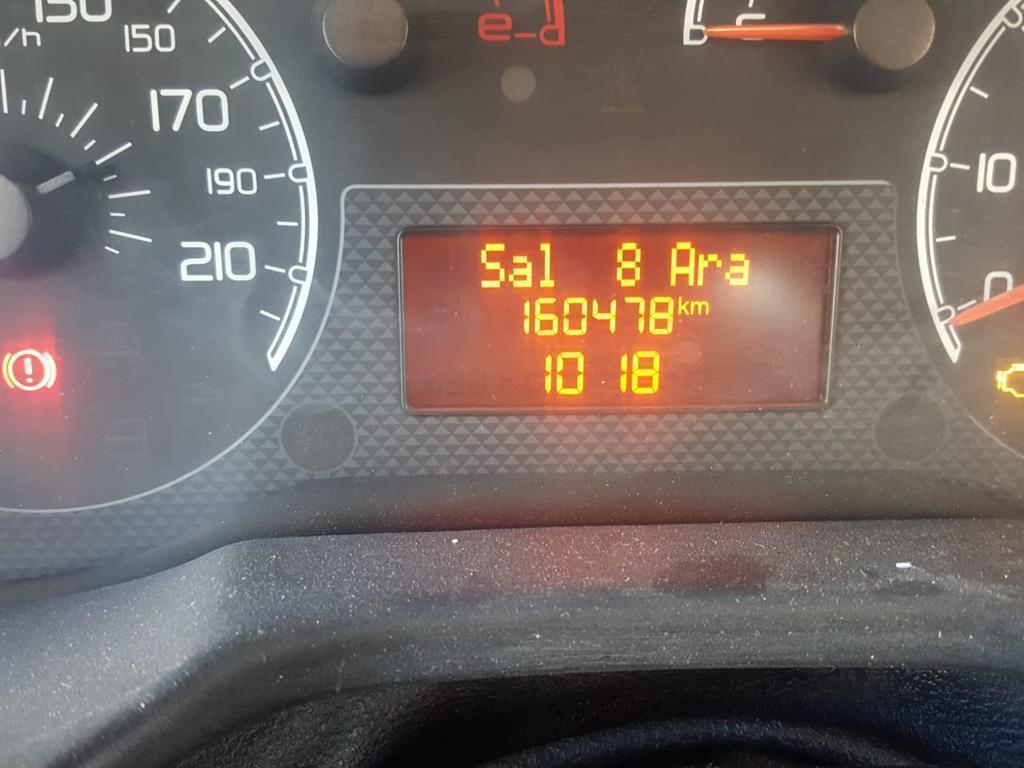0: (554, 349, 586, 396), (560, 295, 589, 337)
1: (540, 351, 553, 395), (616, 351, 629, 395), (519, 298, 531, 337)
4: (590, 296, 619, 335)
6: (532, 296, 559, 337)
7: (621, 294, 645, 335)
8: (629, 349, 661, 395), (613, 240, 643, 289), (647, 294, 675, 336)
X: (477, 239, 507, 289), (666, 238, 696, 288), (723, 251, 753, 287), (537, 239, 556, 290), (697, 251, 723, 288), (508, 254, 535, 289), (690, 299, 709, 315), (677, 294, 689, 315)
odometer: (386, 216, 850, 424)
